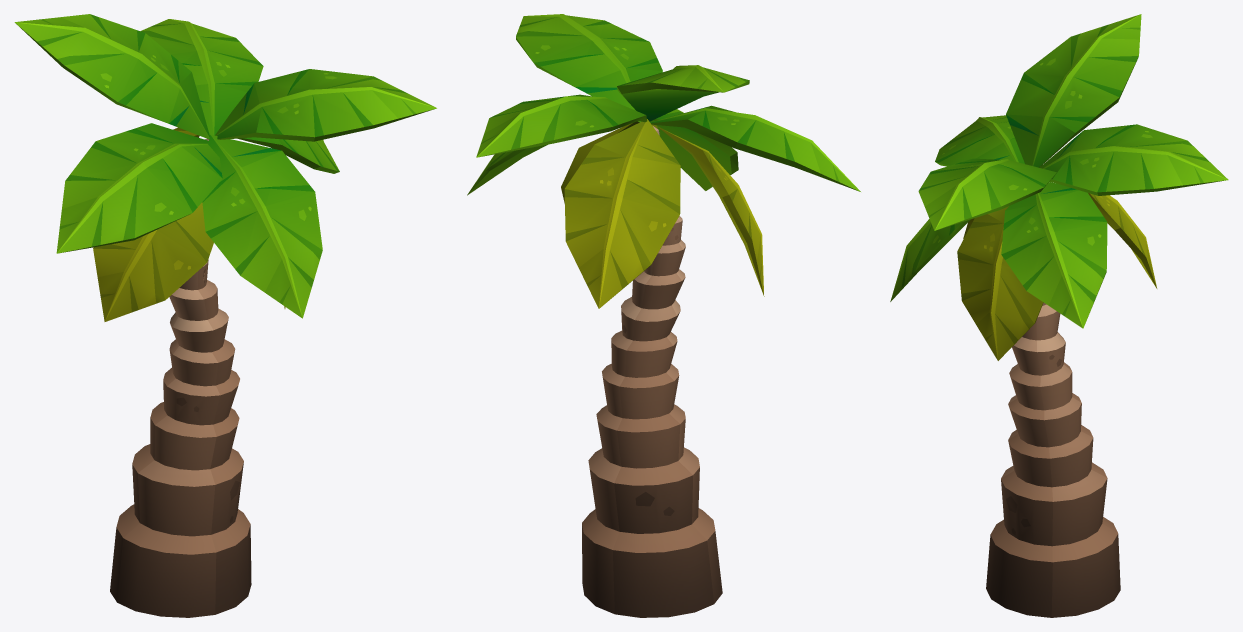
Rendered from coconut1.glb.
3 views of the same model, side by side, from view 1: azimuth 30°, elevation 25°; view 2: azimuth 150°, elevation 25°; view 3: azimuth 270°, elevation 25° (orthographic). The views are drawn at different scales.
Parts seen in each view (by area): view 1: coconut1; view 2: coconut1; view 3: coconut1.
Part boxes in pixels (box(x1,y1,x2,y2)): coconut1: box(14, 14, 436, 617); coconut1: box(467, 14, 860, 617); coconut1: box(890, 14, 1228, 617).
Size of the model in its own units: 3.78 by 5.63 by 3.31.
Materials: 1 (1 with a texture image).
